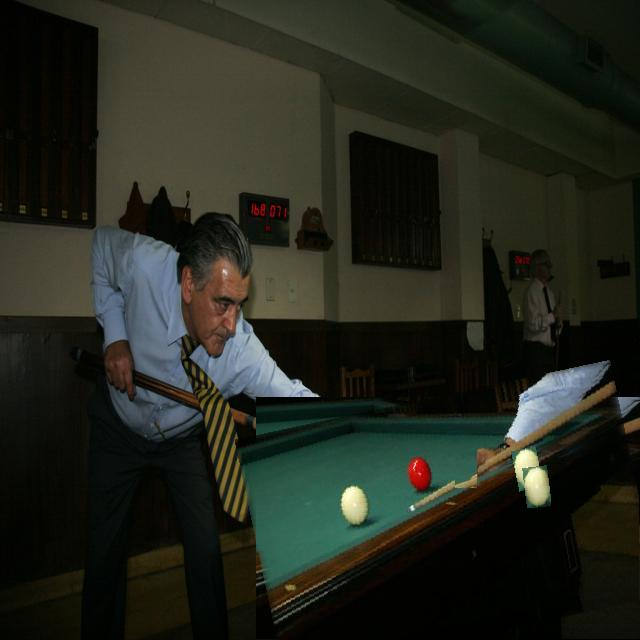Ball: (523, 465, 550, 508), (455, 452, 477, 488)
Billiard table: (245, 378, 640, 640)
